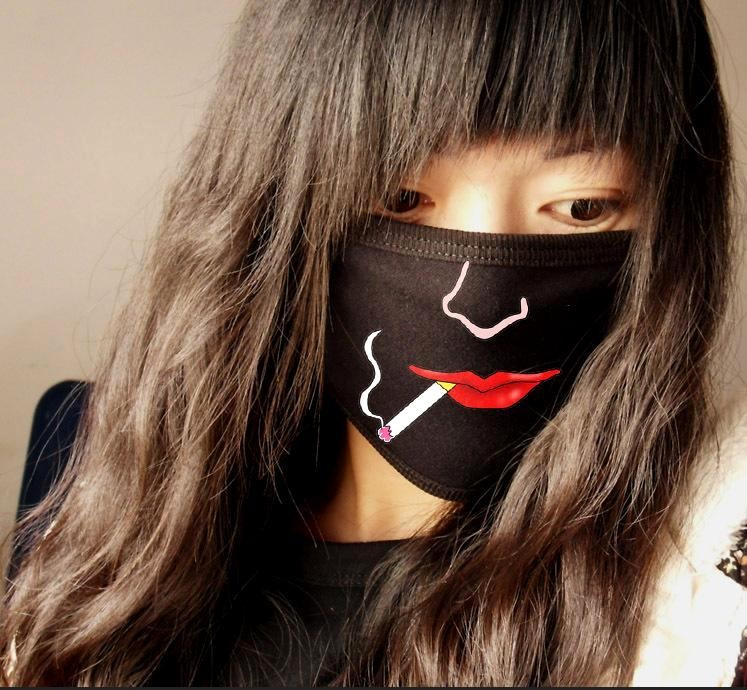face_mask: (322, 30, 658, 451)
